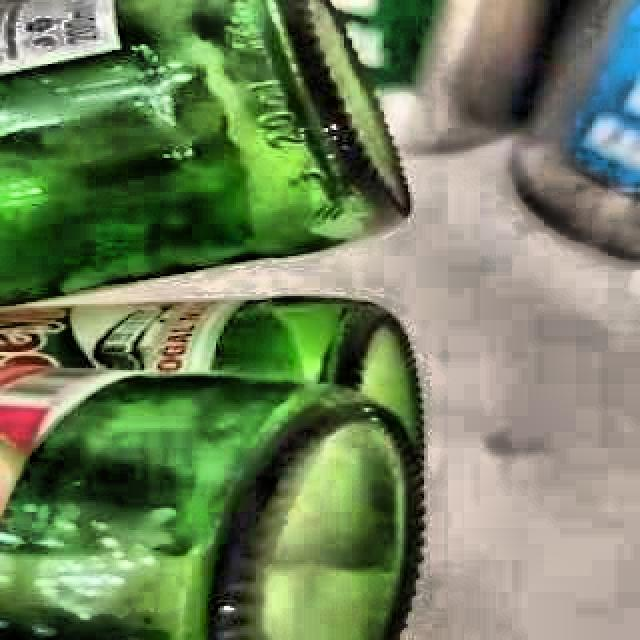glass: (0, 299, 424, 640)
